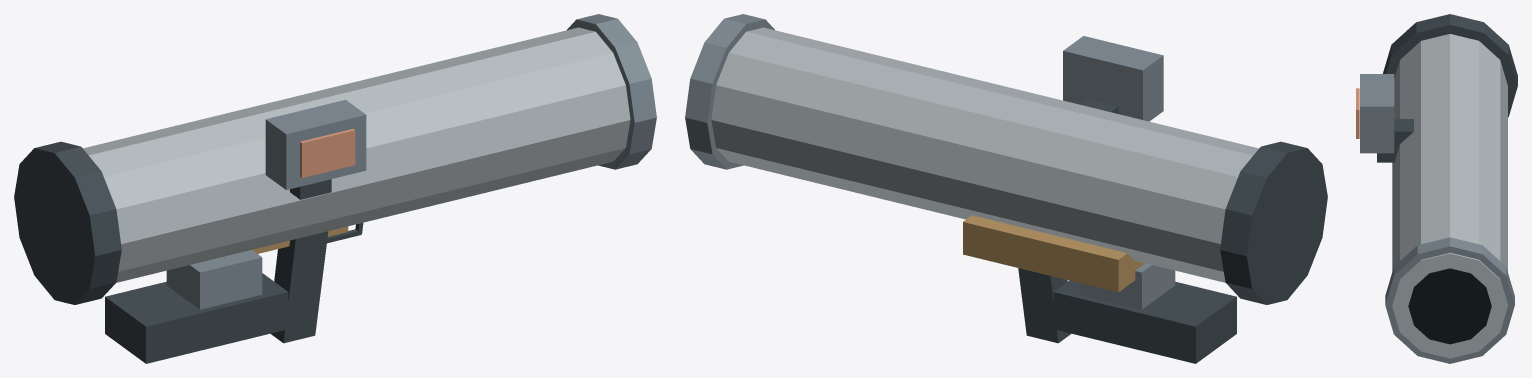
File: w21-basilisk-static.glb
3 renders of one model, left to right at view 1: azimuth 30°, elevation 25°; view 2: azimuth 150°, elevation 25°; view 3: azimuth 270°, elevation 25°, orthographic. The views are drawn at different scales.
Visible parts, largest first — view 1: w21-basilisk__barrel.001, w21-basilisk__rear_exhaust.001, w21-basilisk__shoulder_rest.001, w21-basilisk__targeting_unit.001, w21-basilisk__muzzle_collar.001, w21-basilisk__grip.001, w21-basilisk__shoulder_rest_mount.001, w21-basilisk__sight_glass.001, w21-basilisk__targeting_mount.001; view 2: w21-basilisk__barrel.001, w21-basilisk__rear_exhaust.001, w21-basilisk__shoulder_rest.001, w21-basilisk__reload_tray.001, w21-basilisk__targeting_unit.001, w21-basilisk__muzzle_collar.001, w21-basilisk__grip.001, w21-basilisk__shoulder_rest_mount.001; view 3: w21-basilisk__barrel.001, w21-basilisk__barrel_bore.001, w21-basilisk__muzzle_collar.001, w21-basilisk__rear_exhaust.001, w21-basilisk__targeting_unit.001, w21-basilisk__targeting_mount.001, w21-basilisk__sight_glass.001.
Part boxes in pixels (left/top/right/bottom): w21-basilisk__barrel.001: left=83, top=27, right=630, bottom=282; w21-basilisk__rear_exhaust.001: left=14, top=141, right=121, bottom=304; w21-basilisk__shoulder_rest.001: left=105, top=273, right=288, bottom=363; w21-basilisk__targeting_unit.001: left=265, top=99, right=366, bottom=189; w21-basilisk__muzzle_collar.001: left=567, top=14, right=656, bottom=169; w21-basilisk__grip.001: left=270, top=231, right=328, bottom=343; w21-basilisk__shoulder_rest_mount.001: left=166, top=250, right=262, bottom=309; w21-basilisk__sight_glass.001: left=300, top=129, right=355, bottom=177; w21-basilisk__targeting_mount.001: left=289, top=179, right=331, bottom=199; w21-basilisk__barrel.001: left=711, top=27, right=1258, bottom=282; w21-basilisk__rear_exhaust.001: left=1220, top=141, right=1327, bottom=304; w21-basilisk__shoulder_rest.001: left=1053, top=280, right=1236, bottom=363; w21-basilisk__reload_tray.001: left=963, top=215, right=1144, bottom=292; w21-basilisk__targeting_unit.001: left=1063, top=36, right=1163, bottom=121; w21-basilisk__muzzle_collar.001: left=685, top=14, right=774, bottom=169; w21-basilisk__grip.001: left=1018, top=268, right=1071, bottom=343; w21-basilisk__shoulder_rest_mount.001: left=1079, top=263, right=1175, bottom=309; w21-basilisk__barrel.001: left=1392, top=34, right=1507, bottom=358; w21-basilisk__barrel_bore.001: left=1408, top=268, right=1491, bottom=344; w21-basilisk__muzzle_collar.001: left=1385, top=237, right=1514, bottom=363; w21-basilisk__rear_exhaust.001: left=1383, top=14, right=1517, bottom=117; w21-basilisk__targeting_unit.001: left=1360, top=74, right=1394, bottom=153; w21-basilisk__targeting_mount.001: left=1377, top=119, right=1413, bottom=162; w21-basilisk__sight_glass.001: left=1356, top=88, right=1359, bottom=138.
Bounding box in the file's own units: 1.28 × 0.5448 × 0.3769.
